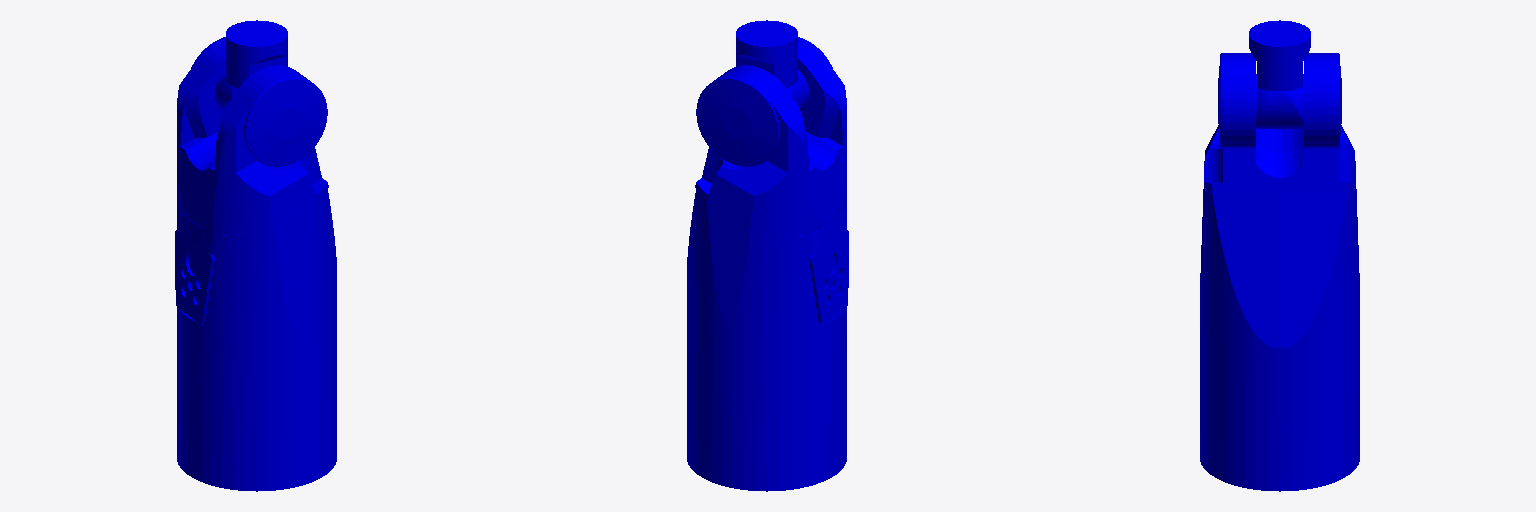
robot.urdf — STAUBLI_RX60L:
<robot name="STAUBLI_RX60L">
	<link name="Staubli_RX60L_Link1">
		<visual>
			<origin xyz="0 0 0" rpy="0 0 0"/>
			<geometry>
				<mesh filename="package://staubli/meshes/RX60BL_HB.dae" scale="0.001 0.001 0.001"/>
			</geometry>
			<material name="Yellow">
				<color rgba="245 196 0 1.0"/>
			</material>
		</visual>
		<collision>
			<origin xyz="0 0 0" rpy="0 0 0"/>
			<geometry>
				<mesh filename="package://staubli/meshes/RX60BL_HB.dae" scale="0.001 0.001 0.001"/>
			</geometry>
			<material name="Blue">
				<color rgba="0 0 255 1.0"/>
			</material>
		</collision>
	</link>
	<link name="Staubli_RX60L_Link2">
		<visual>
			<origin xyz="0 0 0" rpy="0 0 0"/>
			<geometry>
				<mesh filename="package://staubli/meshes/RX60BL_HB1.dae" scale="0.001 0.001 0.001"/>
			</geometry>
			<material name="Yellow">
				<color rgba="245 196 0 1.0"/>
			</material>
		</visual>
		<collision>
			<origin xyz="0 0 0" rpy="0 0 0"/>
			<geometry>
				<mesh filename="package://staubli/meshes/RX60BL_HB1.dae" scale="0.001 0.001 0.001"/>
			</geometry>
			<material name="Green">
				<color rgba="0 0 255 1.0"/>
			</material>
		</collision>
	</link>	
	<link name="Staubli_RX60L_Link3">
		<visual>
			<origin xyz="0 0 0" rpy="0 0 0"/>
			<geometry>
				<mesh filename="package://staubli/meshes/RX60BL_HB2.stl" scale="0.001 0.001 0.001"/>
			</geometry>
			<material name="White">
				<color rgba="0 0 255 1.0"/>
			</material>
		</visual>
		<collision>
			<origin xyz="0 0 0" rpy="0 0 0"/>
			<geometry>
				<mesh filename="package://staubli/meshes/RX60BL_HB2.stl" scale="0.001 0.001 0.001"/>
			</geometry>
			<material name="Blue">
				<color rgba="0 0 255 1.0"/>
			</material>
		</collision>
	</link>
	<link name="Staubli_RX60L_Link4">
		<visual>
			<origin xyz="0 0 0" rpy="0 0 0"/>
			<geometry>
				<mesh filename="package://staubli/meshes/RX60BL_HB3.dae" scale="0.001 0.001 0.001"/>
			</geometry>
			<material name="Red">
				<color rgba="0 0 255 1.0"/>
			</material>
		</visual>
		<collision>
			<origin xyz="0 0 0" rpy="0 0 0"/>
			<geometry>
				<mesh filename="package://staubli/meshes/RX60BL_HB3.dae" scale="0.001 0.001 0.001"/>
			</geometry>
			<material name="Blue">
				<color rgba="0 0 255 1.0"/>
			</material>
		</collision>
	</link>
	<link name="Staubli_RX60L_Link5">
		<visual>
			<origin xyz="0 0 0" rpy="0 0 0"/>
			<geometry>
				<mesh filename="package://staubli/meshes/RX60BL_HB4.dae" scale="0.001 0.001 0.001"/>
			</geometry>
			<material name="Blue">
				<color rgba="0 0 255 1.0"/>
			</material>
		</visual>
		<collision>
			<origin xyz="0 0 0" rpy="0 0 0"/>
			<geometry>
				<mesh filename="package://staubli/meshes/RX60BL_HB4.dae" scale="0.001 0.001 0.001"/>
			</geometry>
			<material name="Blue">
				<color rgba="0 0 255 1.0"/>
			</material>
		</collision>
	</link>
	<link name="Staubli_RX60L_Link6">
		<visual>
			<origin xyz="0 0 0" rpy="0 0 0"/>
			<geometry>
				<mesh filename="package://staubli/meshes/RX60BL_HB5.dae" scale="0.001 0.001 0.001"/>
			</geometry>
			<material name="Blue">
				<color rgba="0 0 255 1.0"/>
			</material>
		</visual>
		<collision>
			<origin xyz="0 0 0" rpy="0 0 0"/>
			<geometry>
				<mesh filename="package://staubli/meshes/RX60BL_HB5.dae" scale="0.001 0.001 0.001"/>
			</geometry>
			<material name="Blue">
				<color rgba="0 0 255 1.0"/>
			</material>
		</collision>
	</link>
	
	<link name="Staubli_RX60L_Link7">
		<visual>
			<origin xyz="0 0 0" rpy="0 0 0"/>
			<geometry>
				<mesh filename="package://staubli/meshes/RX60BL_HB6.dae" scale="0.001 0.001 0.001"/>
			</geometry>
			<material name="Gray">
				<color rgba="100 100 100 1.0"/>
			</material>
		</visual>
		<collision>
			<origin xyz="0 0 0" rpy="0 0 0"/>
			<geometry>
				<mesh filename="package://staubli/meshes/RX60BL_HB6.dae" scale="0.001 0.001 0.001"/>
			</geometry>
			<material name="Gray">
				<color rgba="100 100 100 1.0"/>
			</material>
		</collision>
	</link>
	<joint name="joint_1" type="revolute">
		<origin xyz="0 0 0"/>
		<parent link="Staubli_RX60L_Link1"/>
		<child link="Staubli_RX60L_Link2"/>
		<axis xyz="0 0 1"/>
		<limit effort="100" velocity="5.009094953" lower="-2.792526803" upper="2.792526803"/>
	</joint>
	<joint name="joint_2" type="revolute">
		<origin xyz="0 0 0.341"/>
		<parent link="Staubli_RX60L_Link2"/>
		<child link="Staubli_RX60L_Link3"/>
		<axis xyz="0 1 0"/>
		<limit effort="100" velocity="5.009094953" lower="-2.225294796" upper="2.225294796"/>
	</joint>
	<joint name="joint_3" type="revolute">
		<origin xyz="0 0.049 0.400"/>
		<parent link="Staubli_RX60L_Link3"/>
		<child link="Staubli_RX60L_Link4"/>
		<axis xyz="0 1 0"/>
		<limit effort="100" velocity="5.567600314" lower="-2.347467844" upper="2.347467844"/>
	</joint>
	<joint name="joint_4" type="revolute">
		<origin xyz="0 0 0"/>
		<parent link="Staubli_RX60L_Link4"/>
		<child link="Staubli_RX60L_Link5"/>
		<axis xyz="0 0 1"/>
		<limit effort="100" velocity="7.155849933" lower="-4.71238898" upper="4.71238898"/>
	</joint>
	<joint name="joint_5" type="revolute">
		<origin xyz="0 0 0.400"/>
		<parent link="Staubli_RX60L_Link5"/>
		<child link="Staubli_RX60L_Link6"/>
		<axis xyz="0 1 0"/>
		<limit effort="100" velocity="5.585053606" lower="-1.911135531" upper="2.103121749"/>
	</joint>	
	<joint name="joint_6" type="revolute">
		<origin xyz="0 0 0.065"/>
		<parent link="Staubli_RX60L_Link6"/>
		<child link="Staubli_RX60L_Link7"/>
		<axis xyz="0 0 1"/>
		<limit effort="100" velocity="12.217304764" lower="-4.71238898" upper="4.71238898"/>
	</joint>
</robot>

--- What the picture shows (computed from the rendered views, not written in the file) ---
The picture shows the robot from 3 angles, left to right: view 1: azimuth 30°, elevation 25°; view 2: azimuth 150°, elevation 25°; view 3: azimuth 270°, elevation 25°; orthographic projection.
Model STAUBLI_RX60L with 7 links and 6 joints (6 revolute), rooted at Staubli_RX60L_Link1, posed every joint at zero.
Links seen in each view (by area): view 1: Staubli_RX60L_Link5, Staubli_RX60L_Link6; view 2: Staubli_RX60L_Link5, Staubli_RX60L_Link6; view 3: Staubli_RX60L_Link5, Staubli_RX60L_Link6.
Boxes of the visible links, box(x1,y1,x2,y2) form: Staubli_RX60L_Link5: box(175, 37, 336, 491); Staubli_RX60L_Link6: box(215, 20, 287, 111); Staubli_RX60L_Link5: box(687, 37, 848, 491); Staubli_RX60L_Link6: box(736, 20, 808, 111); Staubli_RX60L_Link5: box(1200, 53, 1359, 491); Staubli_RX60L_Link6: box(1249, 20, 1310, 128).
Bounding box of the posed robot: 0.118 × 0.118 × 0.3435 m (x, y, z).
Meshes: 7 distinct files referenced, 2 mesh visuals loaded (2 Collada DAE); not drawn: 5 (reference not matched to a file when rendering).